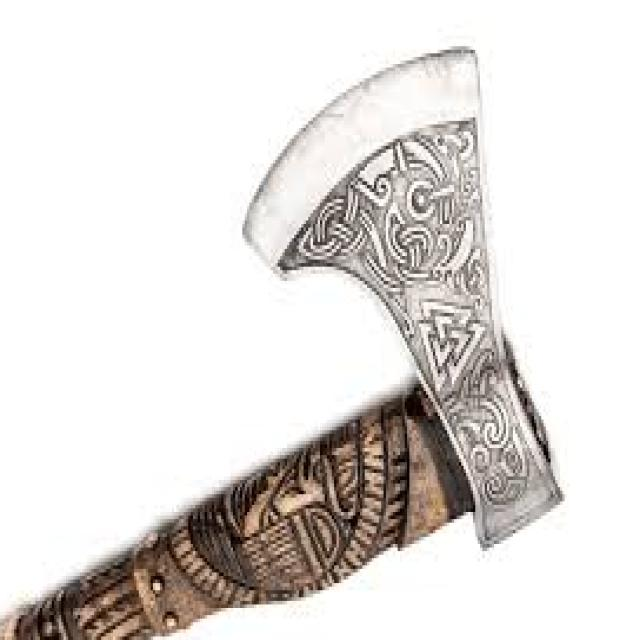Gun: (0, 39, 584, 640)
